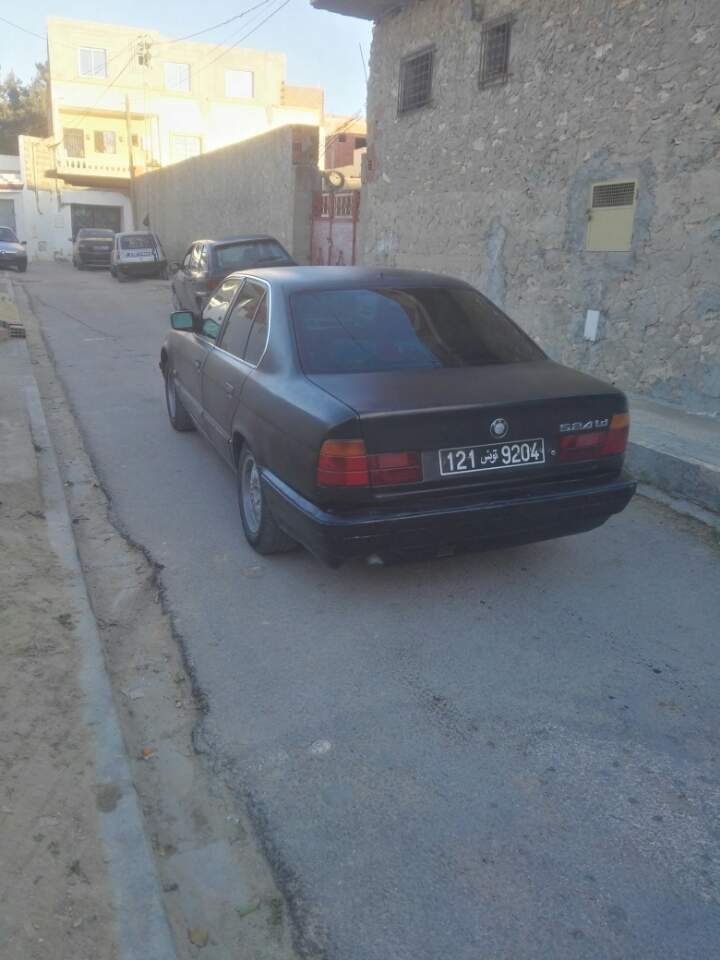LP: (437, 439, 547, 474)
